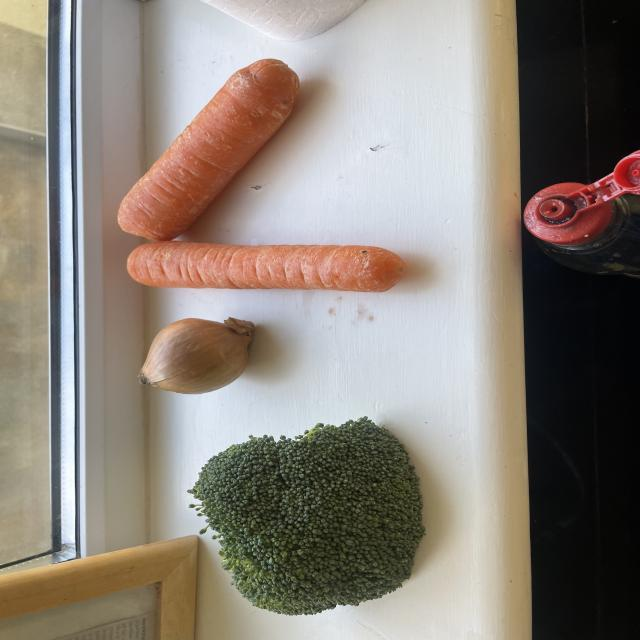Broccoli: (185, 417, 425, 617)
Carrot: (115, 56, 302, 242), (126, 240, 409, 294)
Onion: (133, 315, 260, 396)
